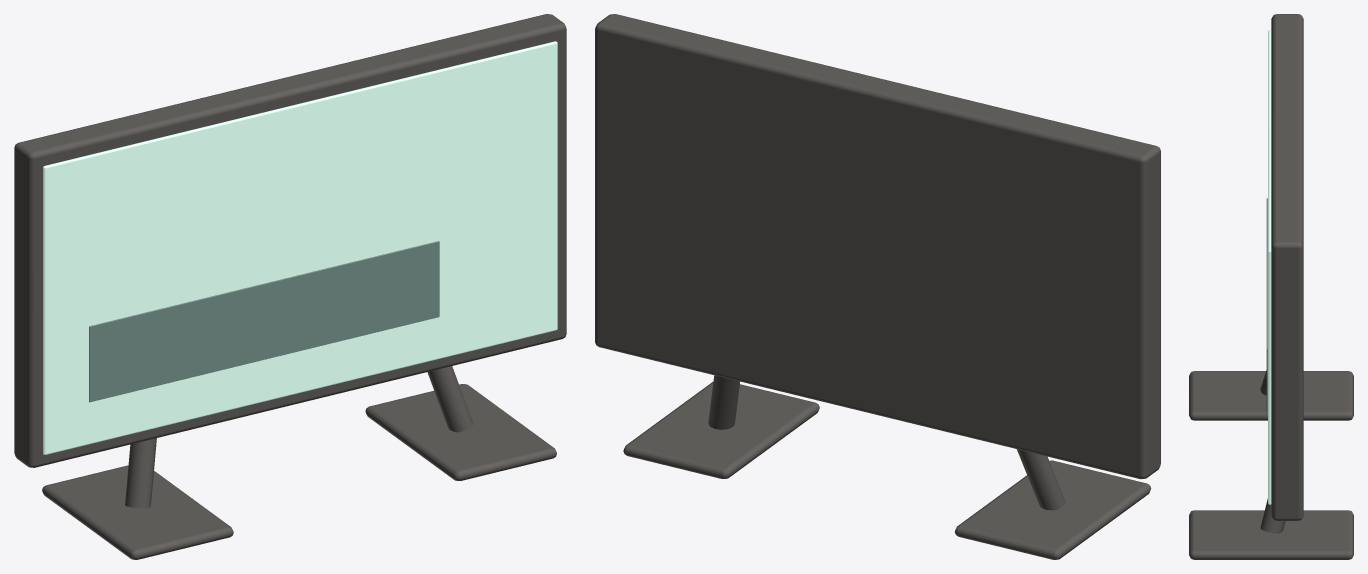
The picture shows the model from 3 angles, left to right: view 1: azimuth 30°, elevation 25°; view 2: azimuth 150°, elevation 25°; view 3: azimuth 270°, elevation 25°; orthographic projection. The views are drawn at different scales.
Parts seen in each view (by area): view 1: television-screen, television-complete-housing, television-picture-hills, tv-foot--1, tv-foot-1, tv-leg--1, tv-leg-1; view 2: television-complete-housing, tv-foot--1, tv-foot-1, tv-leg--1, tv-leg-1; view 3: television-complete-housing, tv-foot-1, tv-foot--1, television-screen, television-picture-hills, tv-leg-1.
Boxes of the visible parts, box(x1,y1,x2,y2) form: television-screen: box(43, 41, 557, 454); television-complete-housing: box(14, 14, 566, 467); television-picture-hills: box(89, 241, 439, 402); tv-foot--1: box(42, 465, 233, 559); tv-foot-1: box(365, 384, 556, 480); tv-leg--1: box(125, 438, 156, 508); tv-leg-1: box(427, 366, 473, 432); television-complete-housing: box(595, 14, 1160, 479); tv-foot--1: box(955, 460, 1151, 559); tv-foot-1: box(623, 382, 819, 478); tv-leg--1: box(1016, 449, 1065, 510); tv-leg-1: box(708, 375, 739, 429); television-complete-housing: box(1271, 14, 1303, 520); tv-foot-1: box(1189, 510, 1353, 559); tv-foot--1: box(1189, 371, 1353, 420); television-screen: box(1268, 30, 1271, 504); television-picture-hills: box(1266, 198, 1267, 415); tv-leg-1: box(1260, 498, 1285, 533).
Size of the model in its own units: 1.2 by 0.825 by 0.36.
